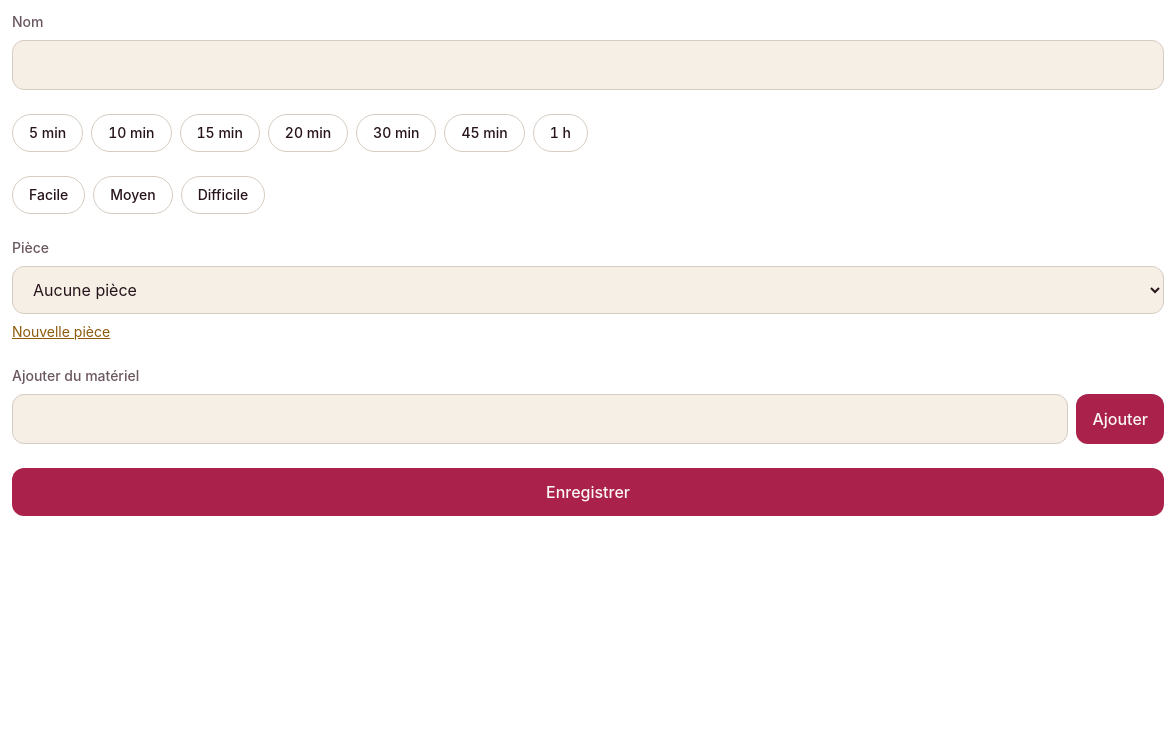
Test: TaskForm › clears the validation message once submission succeeds
The image size is (1176, 732).
Click the button "Enregistrer" at coordinates (588, 492), box left=12, top=468, right=1164, bottom=516
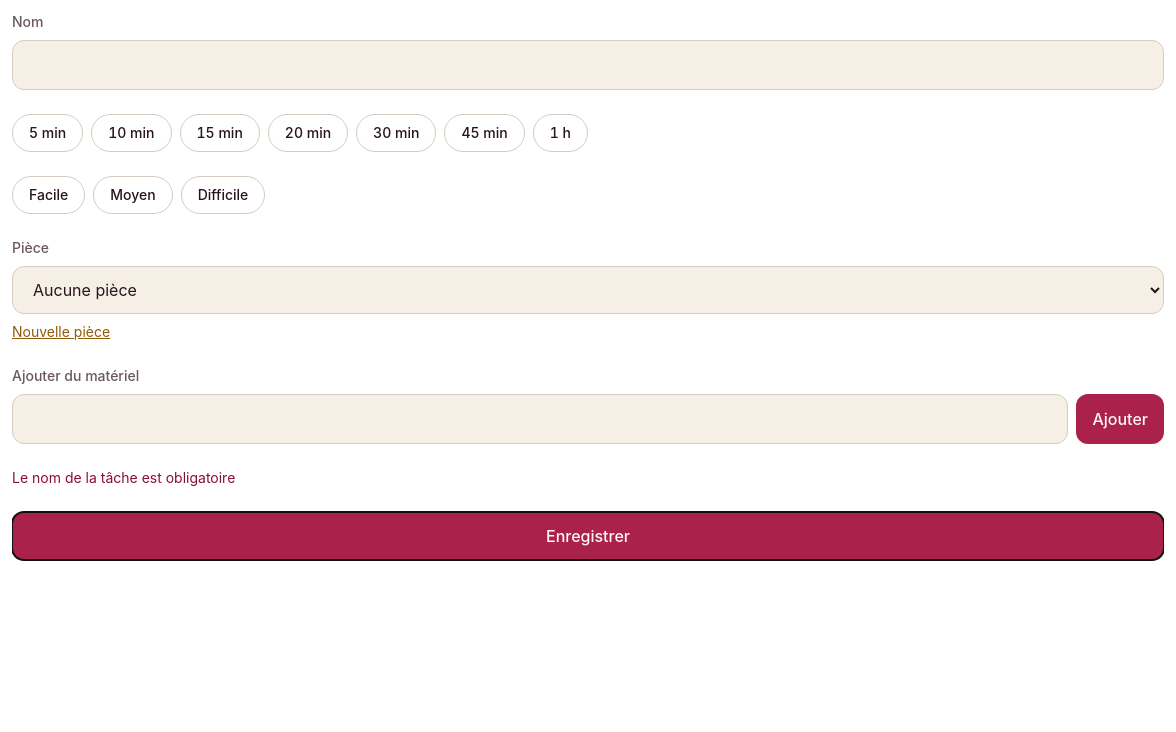
Type "Ranger" into the field labelled "Nom" at coordinates (588, 65), box left=12, top=40, right=1164, bottom=90
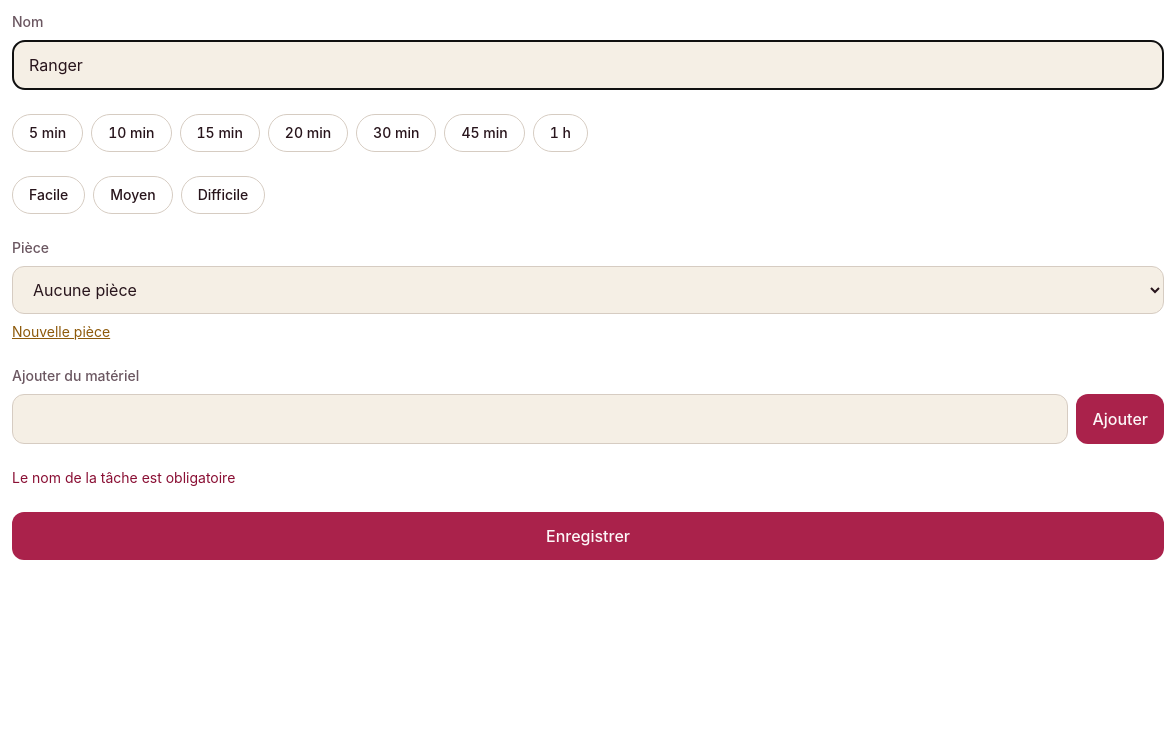
Click the button "Enregistrer" at coordinates (588, 536), box left=12, top=512, right=1164, bottom=560
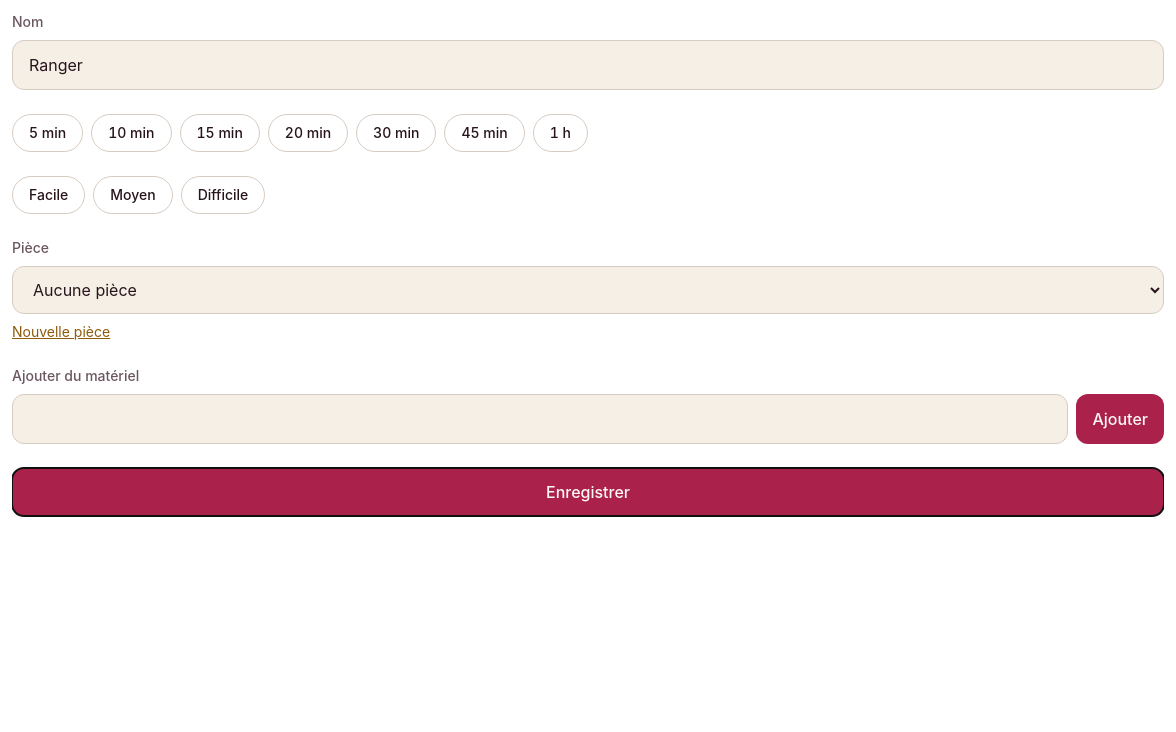
Expected: the message "Le nom de la tâche est obligatoire" is gone
